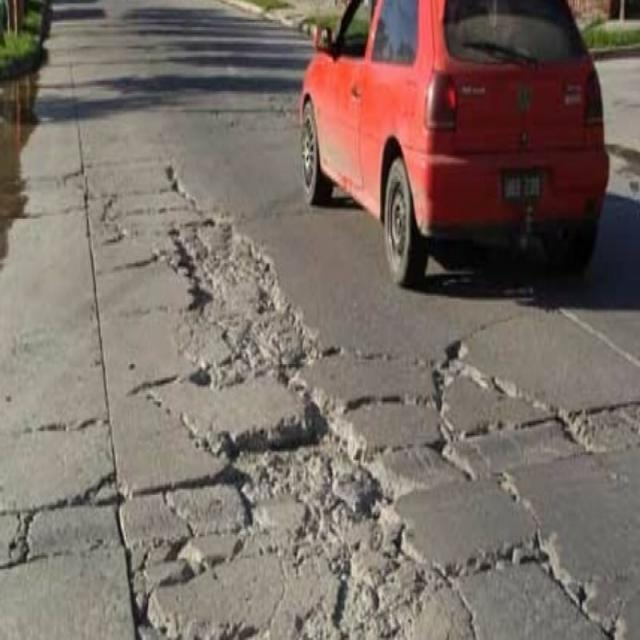pothole: (105, 156, 420, 640)
